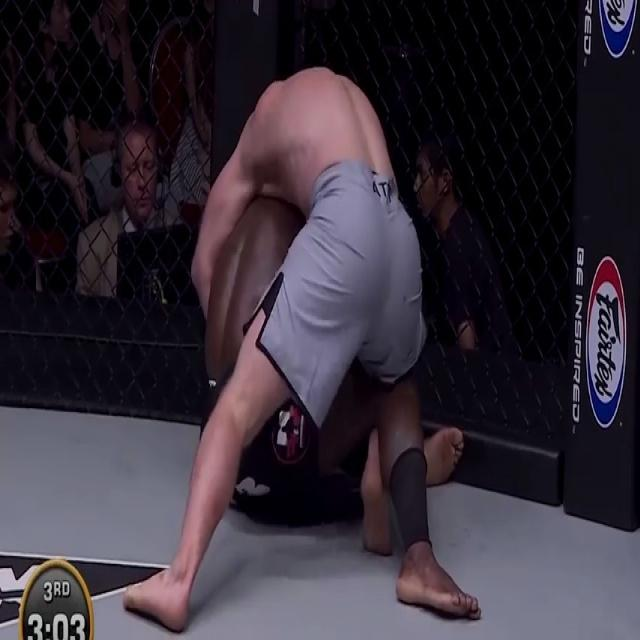fight: (121, 64, 482, 634)
non-fight: (8, 4, 100, 258), (413, 137, 513, 364), (77, 113, 183, 300)
